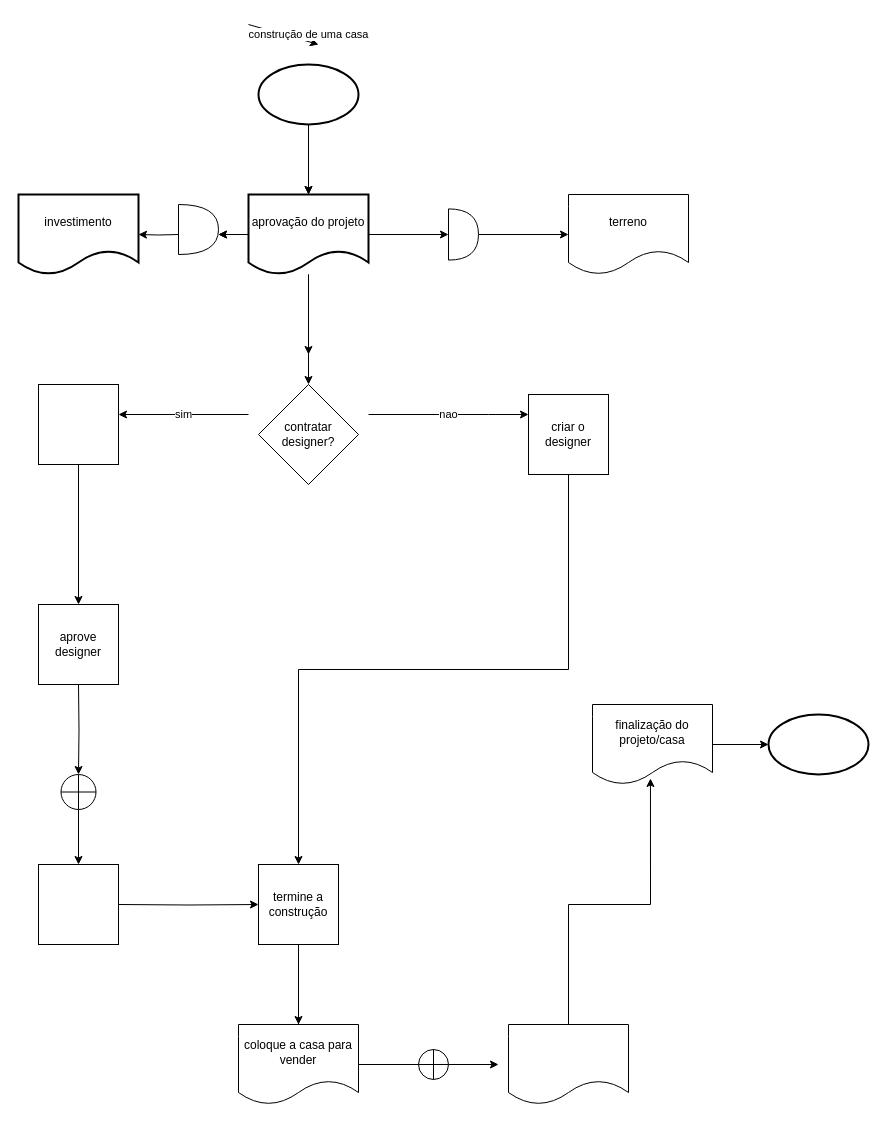
Some shapes in this 886 by 1122 pixel diagram are drawn without their labels. The centre of each missing label's shape, as x and y in pixels:
"altere o designer" goes at point 78,904.
"coloque a casa para alugar" goes at point 568,1064.
"contrate designer da casa" goes at point 78,424.
"fim" goes at point 818,744.
"inicio" goes at point 308,94.
